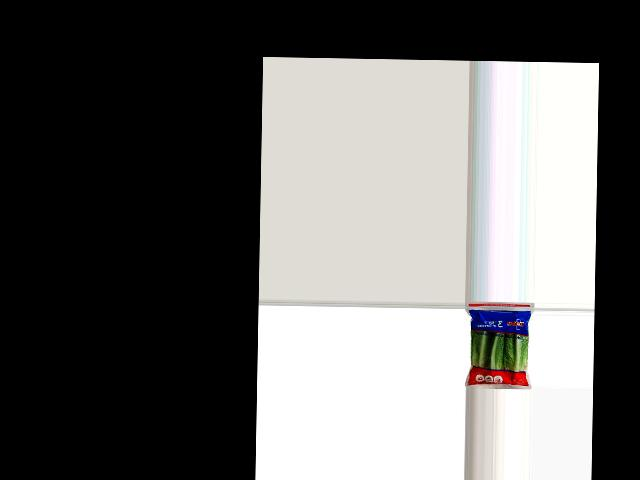lettuce: (466, 306, 534, 389)
